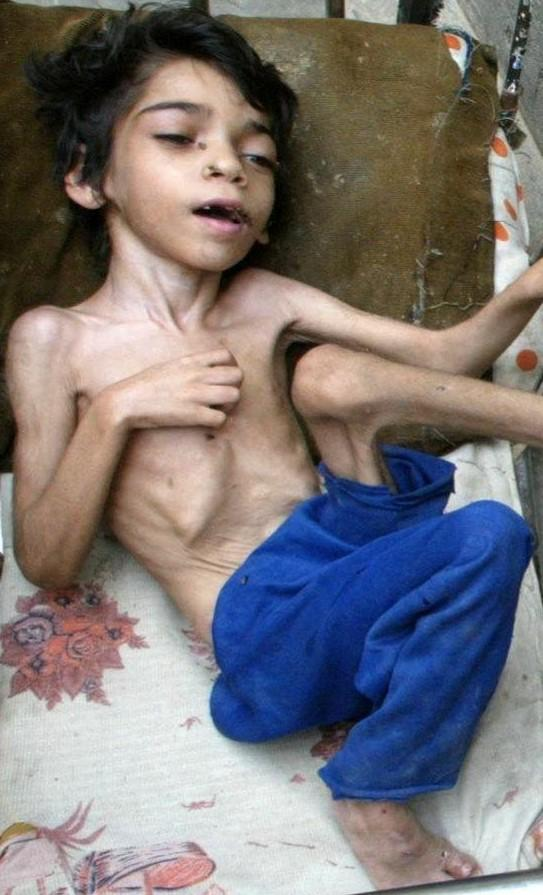Stunting: (15, 45, 360, 350)
